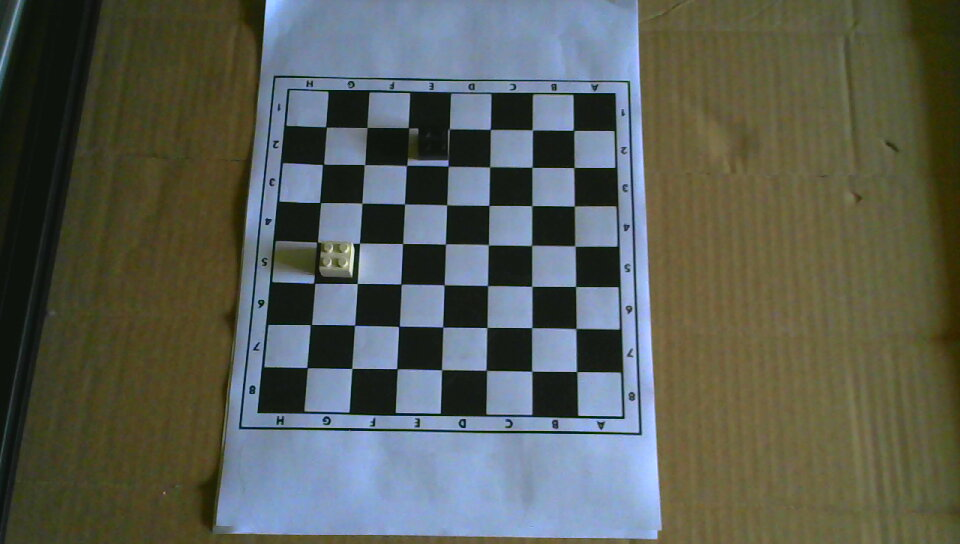bp: (415, 123, 450, 159)
wp: (319, 239, 355, 278)
